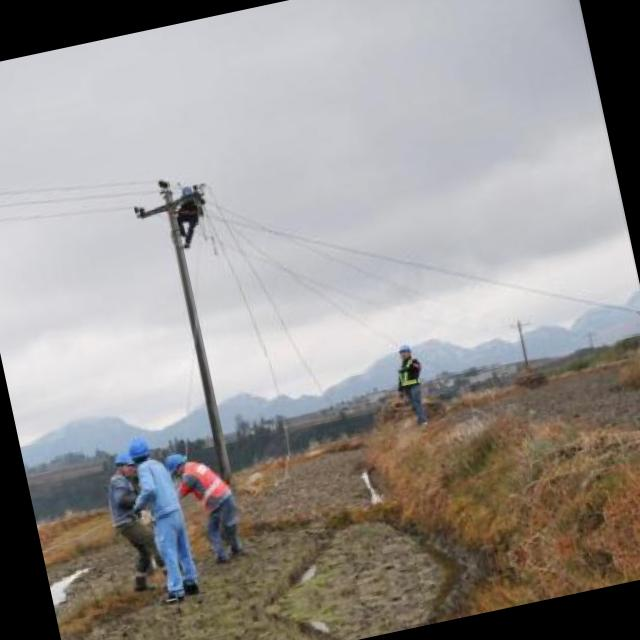helmet: (122, 428, 157, 466), (155, 445, 193, 480), (110, 446, 138, 479), (392, 338, 414, 361)
